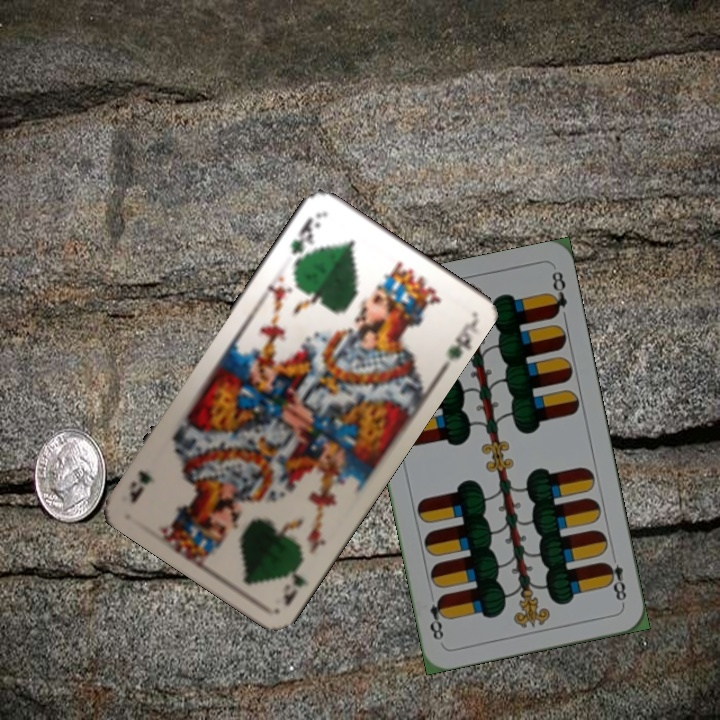E8: (600, 558, 629, 608)
GK: (286, 212, 324, 269), (278, 551, 311, 609)
